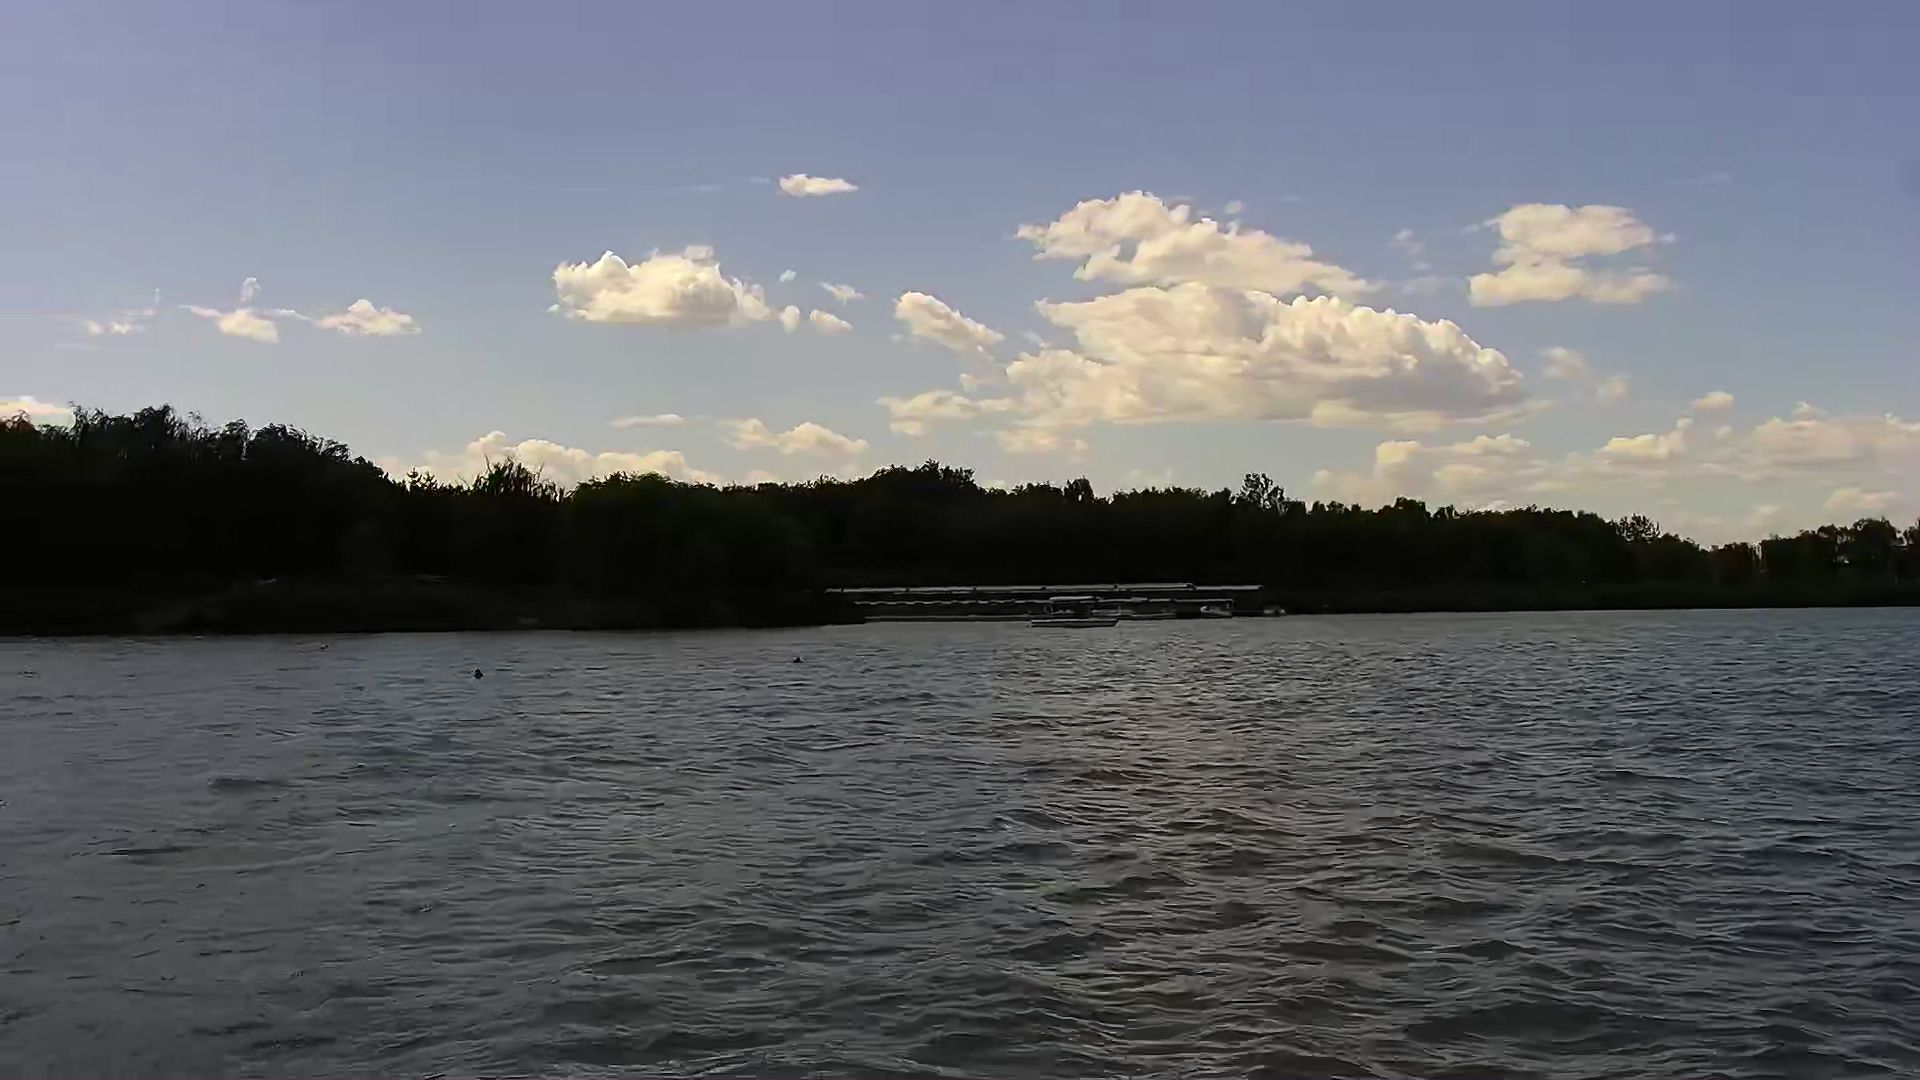boat: (1026, 600, 1129, 632)
harbor: (812, 579, 1294, 622)
